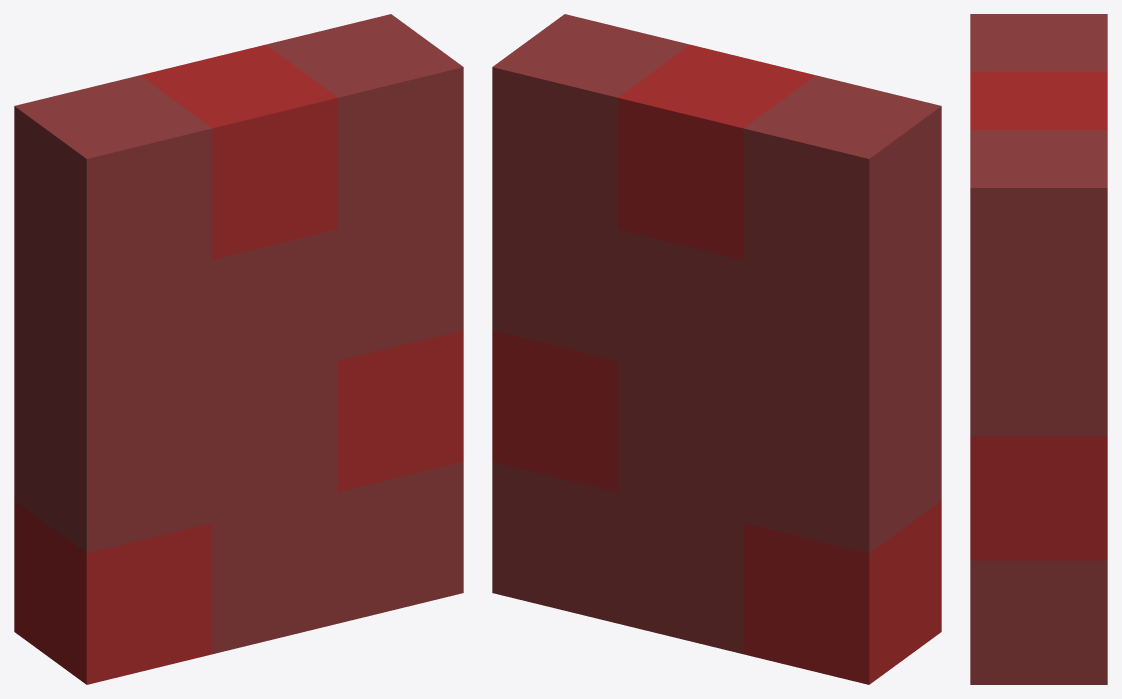
The model's file is doors-1.obj.
3 renders of one model, left to right at view 1: azimuth 30°, elevation 25°; view 2: azimuth 150°, elevation 25°; view 3: azimuth 270°, elevation 25°, orthographic. The views are drawn at different scales.
Bounding box in the file's own units: 0.3 × 0.4 × 0.1.
Materials: 1 (1 with a texture image).
